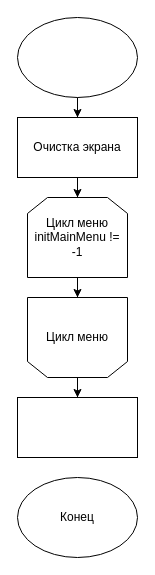
Some shapes in this 155 by 575 pixel diagram are drawn without their labels. The shapes that lost their labels are listed below. From the top down, each one's centre as x and y in pixels, then its label:
At point (77, 57): "Начало runUI".
At point (77, 427): "Очищение интерфейса".
